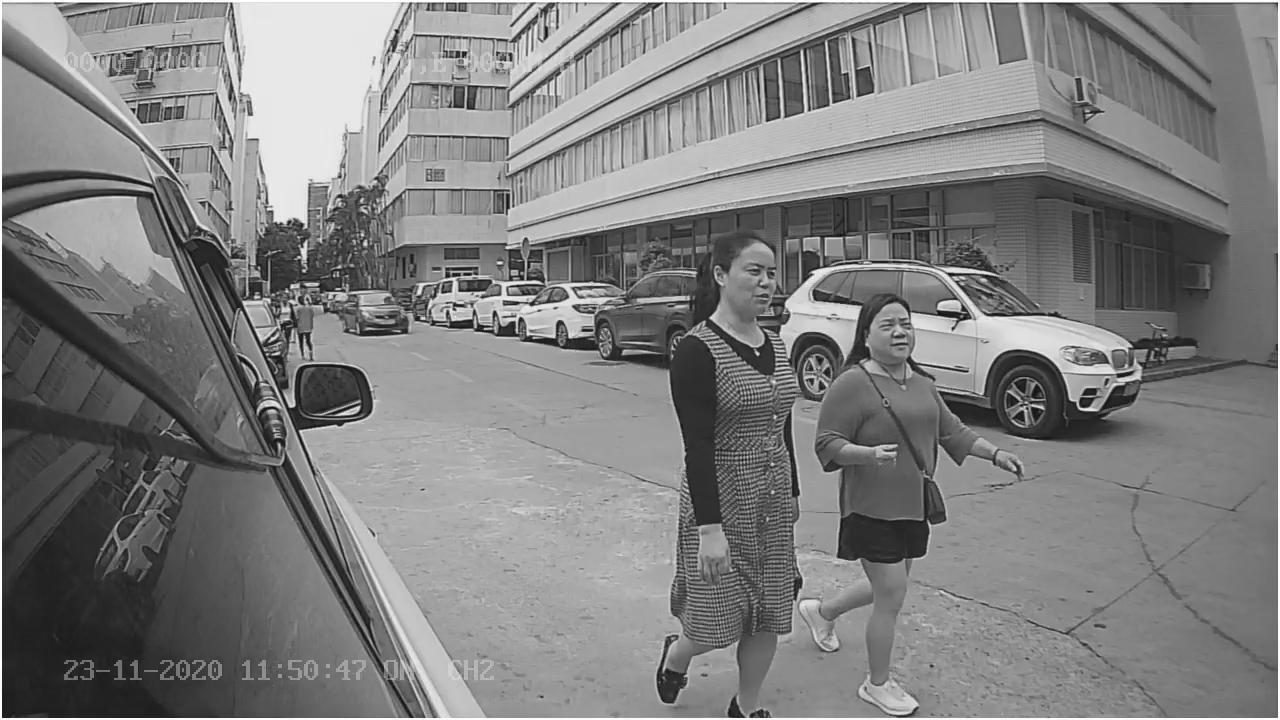person: (810, 274, 1026, 717), (635, 229, 800, 720)
